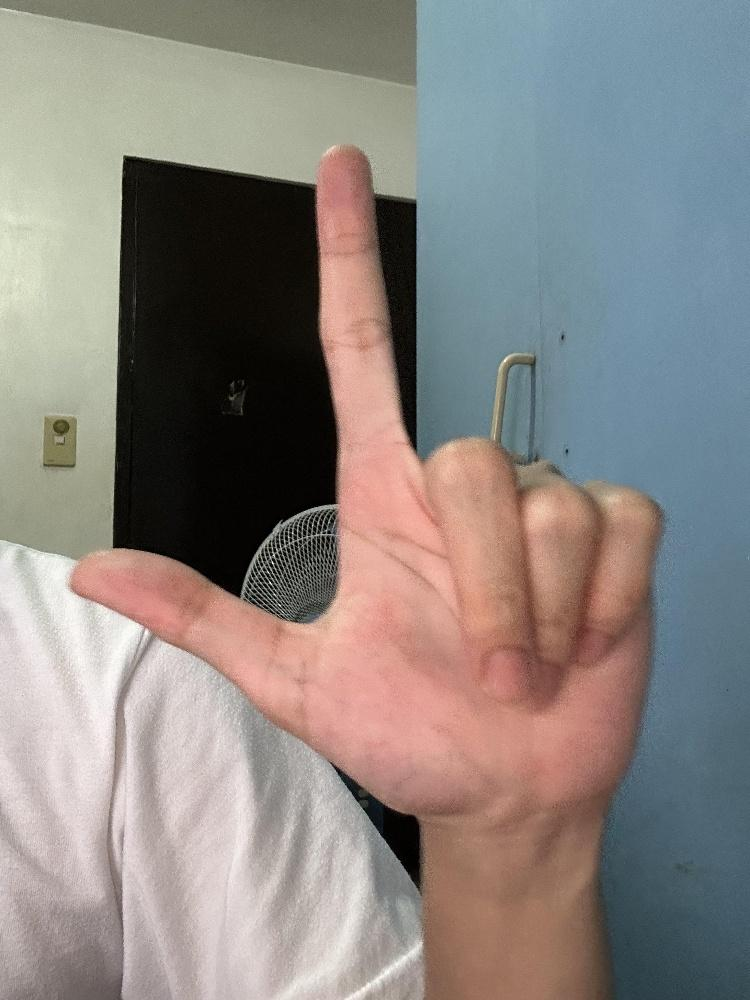l: (62, 138, 671, 831)
